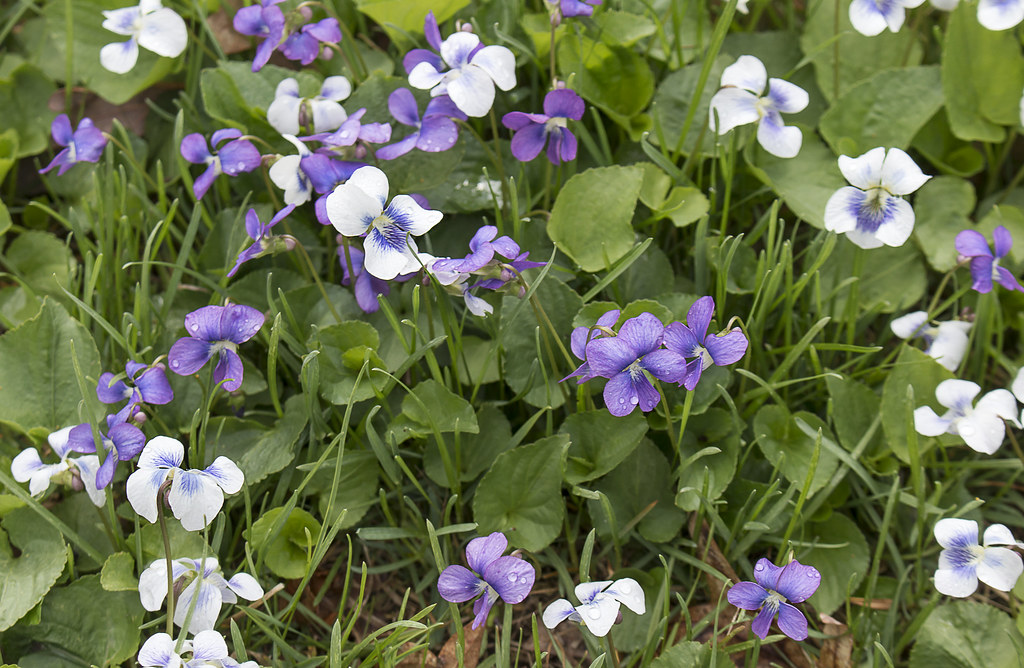violet: (221, 17, 472, 156), (433, 522, 576, 631), (556, 321, 676, 421), (721, 543, 827, 653), (105, 451, 247, 532), (161, 296, 265, 400), (662, 289, 753, 403), (492, 86, 598, 172), (433, 225, 534, 312), (182, 120, 268, 201), (38, 109, 123, 175), (957, 228, 1024, 304)
